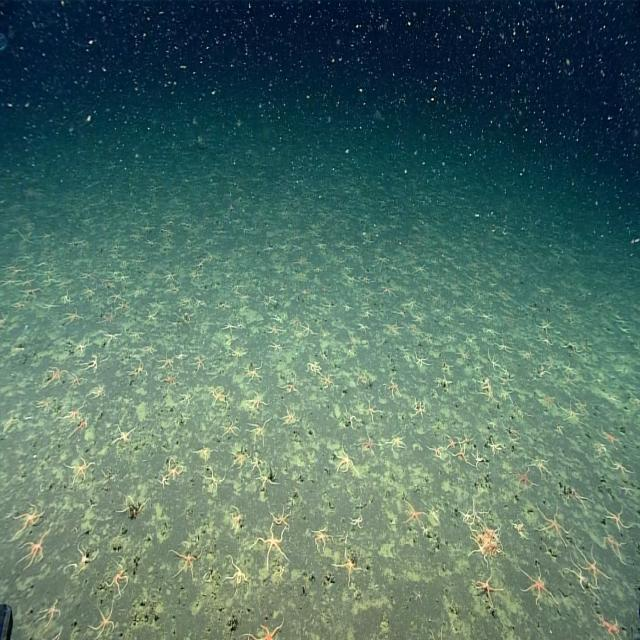brittle-stars: (454, 495, 507, 565), (515, 550, 557, 613), (248, 520, 292, 576), (165, 533, 209, 587), (468, 557, 510, 610), (573, 540, 612, 595), (61, 531, 102, 580), (534, 499, 575, 548), (219, 547, 254, 604), (236, 608, 293, 640), (330, 546, 367, 592), (112, 483, 153, 523), (101, 556, 137, 600), (60, 449, 97, 491), (12, 492, 46, 537), (14, 532, 50, 574), (585, 605, 628, 640), (85, 600, 121, 640), (106, 414, 141, 453), (306, 518, 341, 556), (330, 440, 360, 482), (398, 495, 433, 531), (565, 558, 593, 602), (563, 482, 603, 512), (245, 412, 275, 451), (512, 456, 542, 493), (199, 462, 231, 496), (592, 422, 628, 452), (74, 348, 114, 375), (159, 450, 187, 488), (220, 504, 252, 537), (204, 377, 234, 412), (268, 500, 300, 532), (446, 434, 471, 473), (356, 423, 383, 459), (41, 359, 72, 389), (602, 534, 631, 566), (41, 590, 64, 629), (155, 366, 187, 394), (30, 386, 55, 421), (276, 400, 304, 431), (252, 467, 284, 494), (56, 397, 88, 424), (559, 389, 585, 422), (242, 384, 272, 412), (238, 356, 268, 384), (601, 506, 633, 532), (560, 332, 592, 358), (608, 451, 637, 479), (66, 411, 92, 442), (0, 407, 25, 439), (228, 439, 252, 472), (156, 258, 184, 286), (358, 394, 385, 423), (276, 366, 300, 398), (408, 394, 431, 426), (214, 417, 245, 440), (99, 325, 128, 349), (423, 616, 452, 640), (491, 332, 521, 355), (125, 357, 151, 383), (37, 264, 62, 291), (190, 439, 218, 463), (86, 376, 110, 404), (381, 373, 406, 399), (301, 353, 327, 378), (59, 304, 86, 328), (190, 252, 213, 280), (529, 450, 554, 475), (384, 428, 408, 454), (345, 400, 362, 436), (478, 376, 497, 408), (346, 506, 369, 532), (79, 276, 102, 302), (405, 257, 433, 278), (1, 258, 30, 278), (457, 295, 481, 319), (70, 334, 96, 356), (142, 301, 163, 328), (485, 435, 506, 460), (64, 369, 89, 390), (188, 353, 214, 373), (534, 309, 554, 335), (375, 280, 401, 300), (136, 339, 163, 358), (259, 320, 291, 336), (247, 450, 269, 473), (154, 350, 177, 372), (373, 249, 395, 272), (497, 383, 518, 407), (401, 291, 423, 313), (296, 319, 320, 339), (444, 425, 461, 453), (432, 372, 453, 394), (215, 320, 248, 334), (113, 295, 136, 315), (379, 319, 402, 339), (555, 294, 578, 314), (409, 350, 433, 369), (425, 441, 445, 463), (260, 286, 280, 308), (359, 227, 378, 250), (36, 296, 60, 314), (470, 446, 487, 471), (229, 342, 250, 362), (111, 266, 133, 285), (536, 359, 552, 385), (162, 280, 188, 296), (17, 284, 42, 300), (172, 344, 194, 362), (534, 334, 556, 352), (320, 369, 337, 392), (498, 363, 518, 382), (409, 308, 429, 327), (128, 251, 148, 270), (58, 286, 76, 307), (617, 478, 634, 499), (265, 337, 286, 354), (477, 307, 498, 324), (410, 586, 426, 608), (343, 236, 360, 256), (469, 356, 484, 378), (193, 292, 211, 310), (553, 419, 569, 439), (262, 236, 278, 256), (487, 352, 501, 374), (355, 319, 372, 337), (455, 346, 472, 364), (221, 333, 240, 349), (523, 344, 537, 364), (341, 299, 356, 315), (359, 306, 375, 321), (355, 272, 374, 284)
